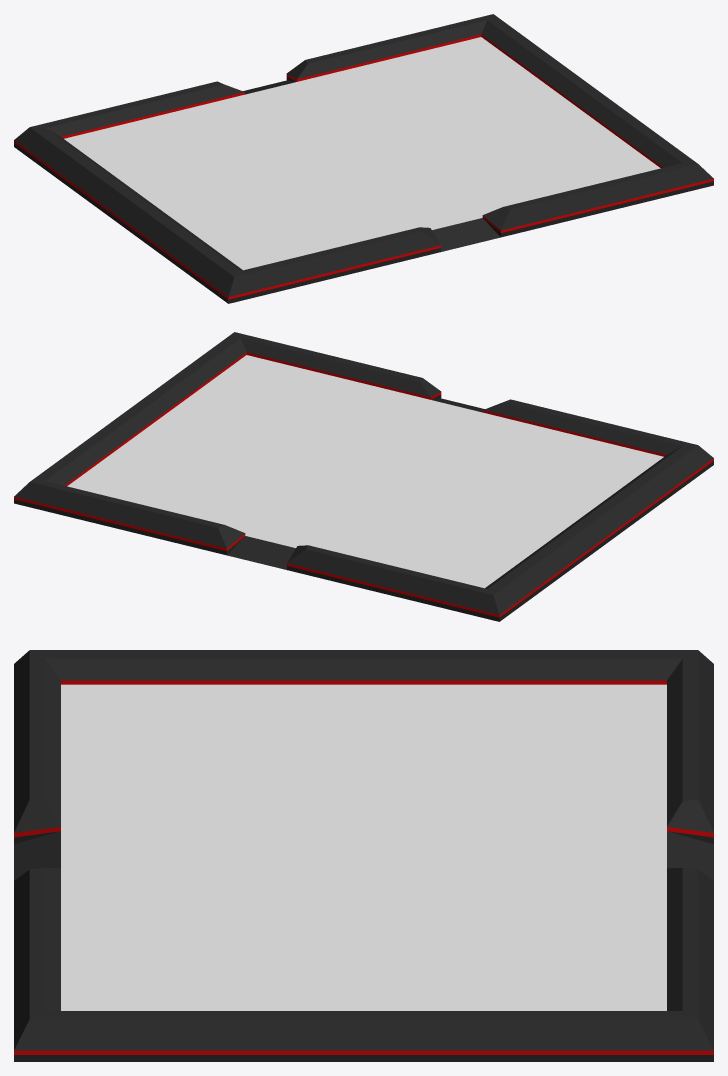
The model's file is LandingZone.fbx.
The picture shows the model from 3 angles, top to bottom: view 1: azimuth 30°, elevation 25°; view 2: azimuth 150°, elevation 25°; view 3: azimuth 270°, elevation 25°; orthographic projection. The views are drawn at different scales.
Parts seen in each view (by area): view 1: Cube; view 2: Cube; view 3: Cube.
Boxes of the visible parts, x1,y1,x2,y2 form: Cube: [14, 14, 713, 303]; Cube: [14, 332, 713, 621]; Cube: [14, 650, 713, 1061].
Bounding box in the file's own units: 4806 × 196 × 3677.
